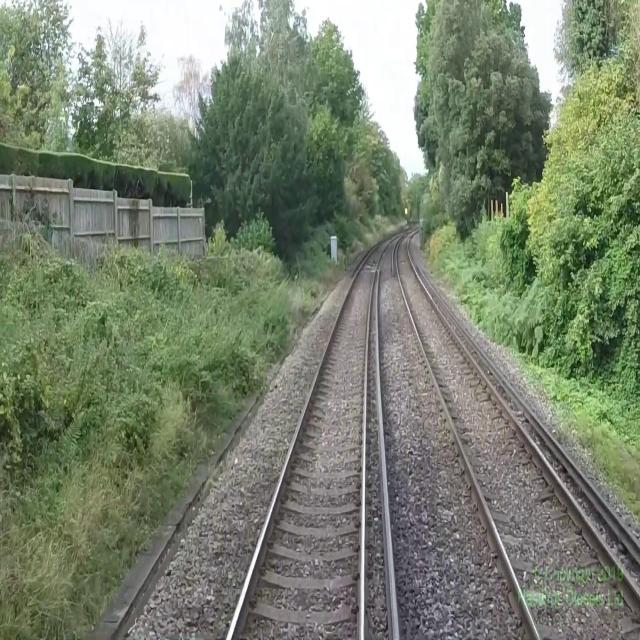rail-track: (396, 226, 640, 639), (230, 232, 401, 639)
